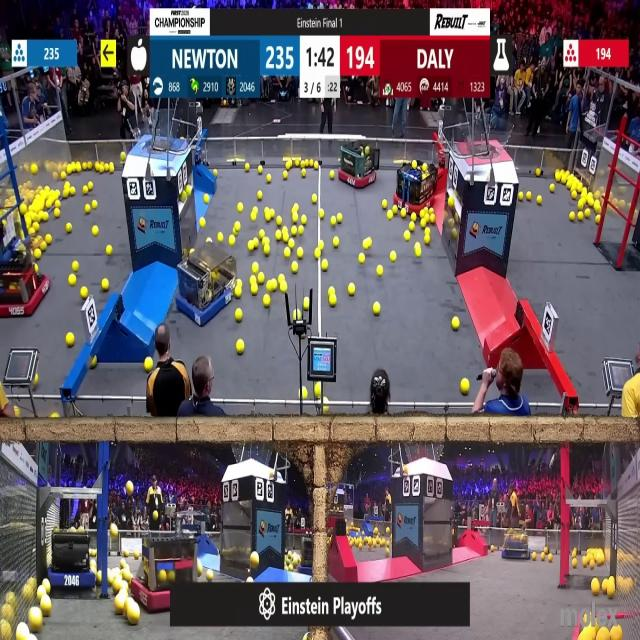ball_airborne: (109, 524, 118, 537), (127, 482, 134, 495), (153, 512, 157, 522)
ball_ground: (30, 610, 44, 633), (128, 603, 141, 626), (41, 597, 51, 615), (114, 596, 124, 614), (460, 379, 469, 395), (592, 580, 600, 596), (144, 357, 153, 371), (67, 334, 75, 348), (237, 340, 245, 354), (269, 280, 278, 292), (452, 317, 460, 330), (607, 585, 614, 599), (304, 298, 311, 312), (264, 294, 272, 306), (348, 283, 356, 295), (102, 279, 109, 292), (113, 581, 120, 594), (72, 262, 79, 274), (80, 287, 87, 299), (237, 310, 244, 322), (373, 301, 380, 313), (257, 273, 264, 285), (291, 263, 298, 275), (316, 384, 322, 398), (276, 216, 284, 226), (302, 388, 309, 399), (252, 264, 259, 275), (207, 569, 214, 580), (322, 261, 328, 273), (596, 202, 602, 214), (329, 294, 335, 306), (236, 221, 242, 233), (284, 248, 291, 258), (69, 276, 76, 286), (97, 570, 102, 584), (93, 225, 100, 235), (227, 236, 234, 246), (45, 200, 52, 210), (106, 245, 112, 256), (265, 245, 271, 256), (416, 246, 422, 257), (378, 266, 384, 277), (335, 237, 341, 248), (363, 239, 369, 250), (283, 232, 289, 243), (83, 205, 90, 214), (69, 186, 76, 195), (280, 283, 287, 292), (359, 252, 364, 264), (296, 248, 302, 258), (66, 222, 72, 232), (252, 284, 258, 294), (449, 198, 455, 208), (36, 249, 42, 259), (403, 232, 409, 242), (276, 232, 282, 242), (237, 287, 243, 297), (291, 225, 297, 235), (390, 251, 396, 261), (429, 214, 435, 224), (325, 262, 331, 272), (292, 214, 298, 224), (13, 408, 19, 418), (297, 225, 303, 235), (452, 230, 458, 240), (571, 558, 577, 568), (248, 241, 254, 251), (253, 240, 259, 250), (266, 208, 272, 218), (525, 191, 532, 199), (302, 216, 309, 224), (550, 184, 557, 192), (93, 357, 98, 368), (577, 199, 582, 210), (585, 209, 591, 218), (328, 286, 334, 295), (256, 190, 262, 199), (400, 209, 406, 218), (318, 210, 324, 219), (569, 211, 575, 220), (55, 209, 61, 218), (518, 191, 524, 200), (330, 216, 336, 225), (318, 241, 324, 250), (571, 189, 577, 198), (382, 201, 388, 210), (93, 201, 99, 210), (588, 198, 594, 207), (338, 213, 343, 223), (201, 217, 206, 227), (247, 576, 254, 583), (217, 234, 223, 242), (45, 236, 51, 244), (34, 222, 40, 230), (288, 239, 293, 248), (43, 212, 48, 221), (577, 211, 582, 220), (596, 214, 601, 223), (41, 243, 46, 252), (388, 211, 393, 220), (392, 206, 397, 215), (266, 212, 271, 221), (316, 248, 320, 259), (590, 561, 596, 568), (546, 556, 552, 563), (257, 167, 262, 175), (56, 200, 61, 208), (268, 175, 273, 183), (314, 163, 319, 171), (64, 189, 69, 197), (185, 194, 190, 202), (329, 172, 334, 180), (284, 225, 288, 235), (83, 184, 87, 194), (252, 211, 256, 221), (557, 172, 561, 182), (89, 182, 94, 190), (360, 256, 364, 266), (313, 193, 317, 202), (324, 407, 328, 416), (119, 559, 123, 568), (425, 236, 429, 245), (36, 265, 40, 274), (536, 194, 540, 203), (72, 265, 78, 271), (536, 169, 540, 177), (411, 222, 415, 230), (532, 553, 536, 561), (200, 567, 204, 575), (284, 172, 288, 180), (386, 549, 390, 557), (518, 192, 521, 202), (452, 230, 455, 240), (386, 527, 390, 534), (426, 226, 430, 233), (244, 163, 248, 169), (492, 544, 495, 550)
goal: (460, 117, 516, 158), (130, 117, 189, 151)
robot_blue: (176, 248, 237, 328), (52, 527, 94, 590), (502, 527, 530, 559)
robot_red: (130, 534, 198, 614), (0, 262, 52, 316), (396, 160, 438, 212), (339, 139, 379, 190)
